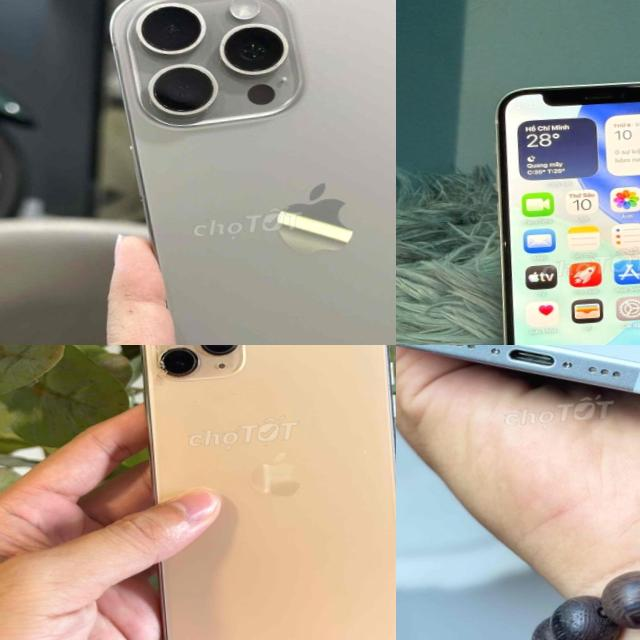gen_11: (126, 345, 396, 640)
gen_12_13: (486, 69, 640, 345)
gen_15: (69, 0, 396, 345), (396, 345, 640, 439)
